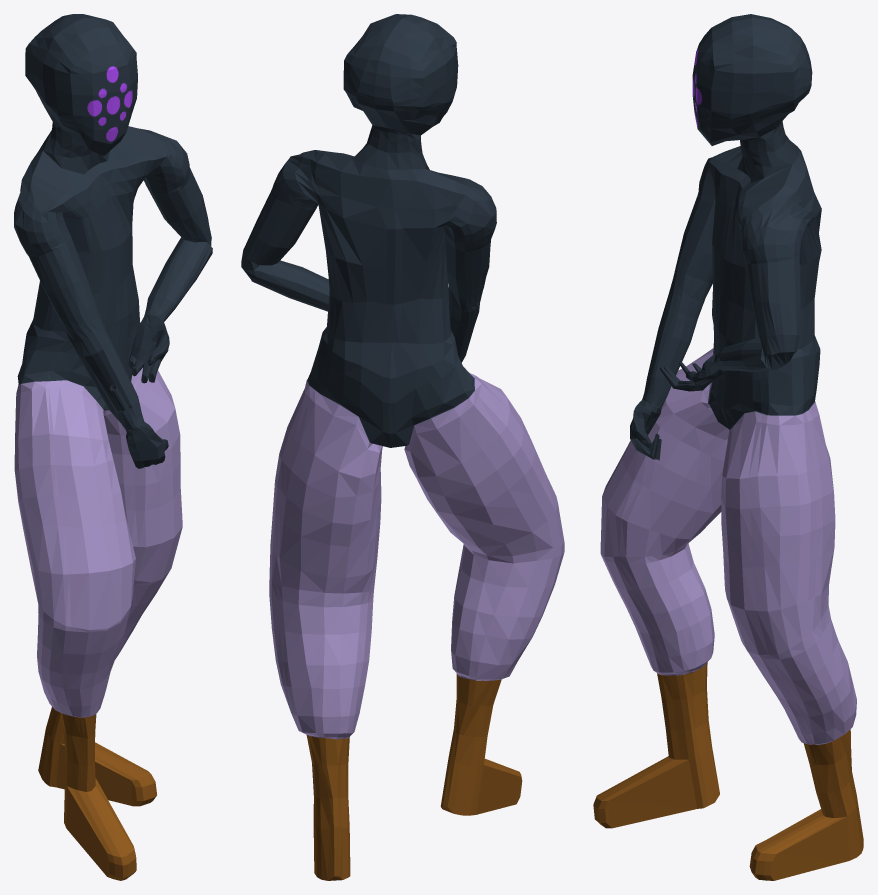
File: Oracle_WF_000005.obj
3 renders of one model, left to right at view 1: azimuth 30°, elevation 25°; view 2: azimuth 150°, elevation 25°; view 3: azimuth 270°, elevation 25°, orthographic. The views are drawn at different scales.
Visible parts, largest first — view 1: Cube; view 2: Cube; view 3: Cube.
Part boxes in pixels (box(x1,y1,x2,y2)): Cube: box(14, 14, 212, 880); Cube: box(241, 14, 564, 880); Cube: box(593, 14, 863, 880).
Size of the model in its own units: 1.19 by 3.87 by 1.15.
